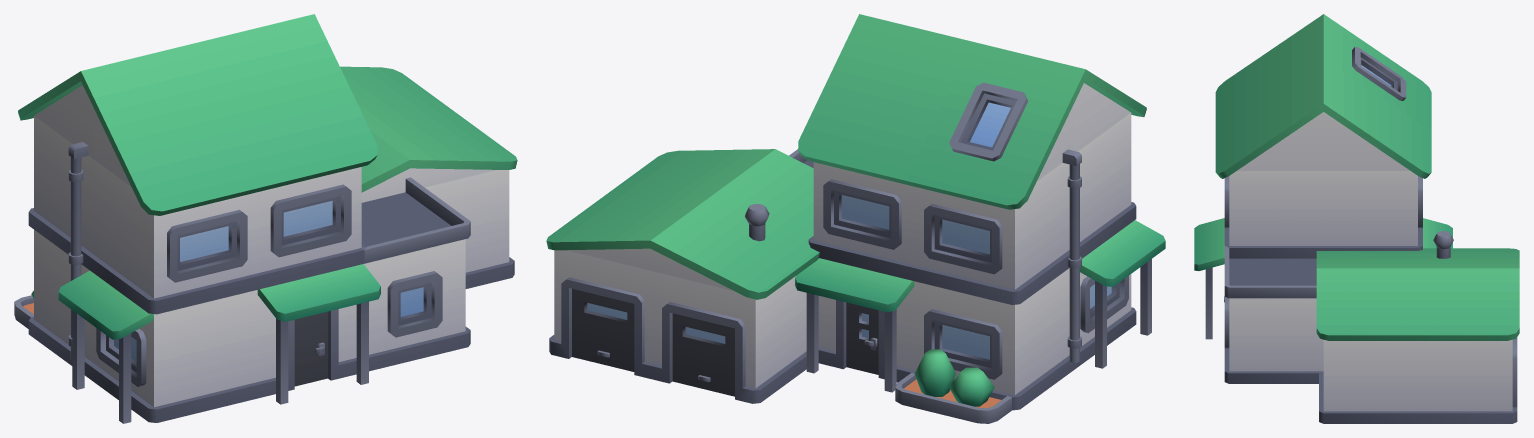
File: house_suburb_n.glb
3 renders of one model, left to right at view 1: azimuth 30°, elevation 25°; view 2: azimuth 150°, elevation 25°; view 3: azimuth 270°, elevation 25°, orthographic. The views are drawn at different scales.
Visible parts, largest first — view 1: building-type-n; view 2: building-type-n; view 3: building-type-n.
Boxes of the visible parts, x1,y1,x2,y2 form: building-type-n: (14, 14, 517, 423); building-type-n: (546, 14, 1165, 423); building-type-n: (1194, 14, 1519, 423).
Bounding box in the file's own units: 1.78 × 1.14 × 1.38.
Materials: 1 (1 with a texture image).
